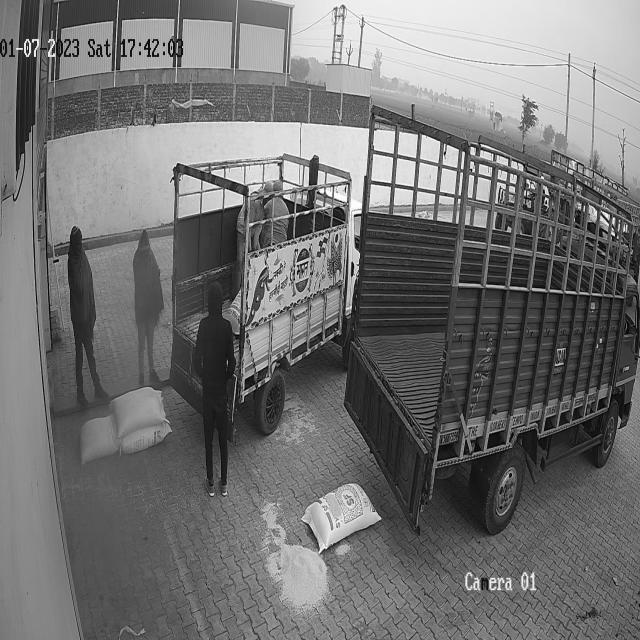sack: (302, 482, 381, 553), (110, 386, 164, 435), (79, 414, 119, 464), (122, 421, 171, 454)
